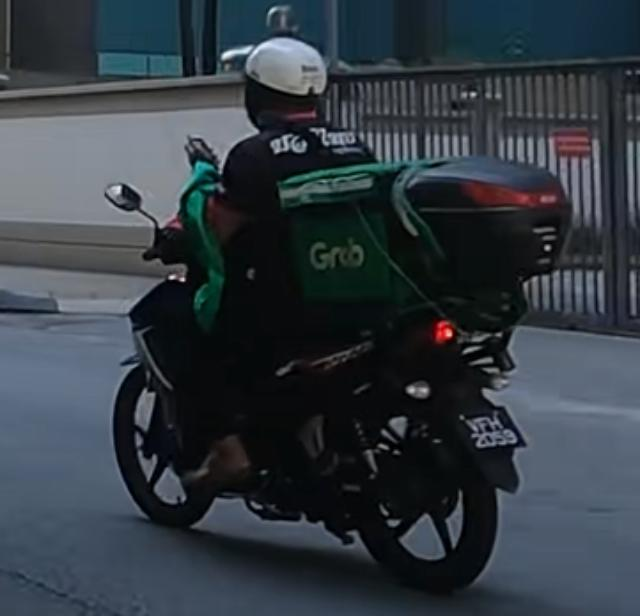License_Plate: (457, 411, 522, 457)
motorcycle: (103, 142, 574, 595)
